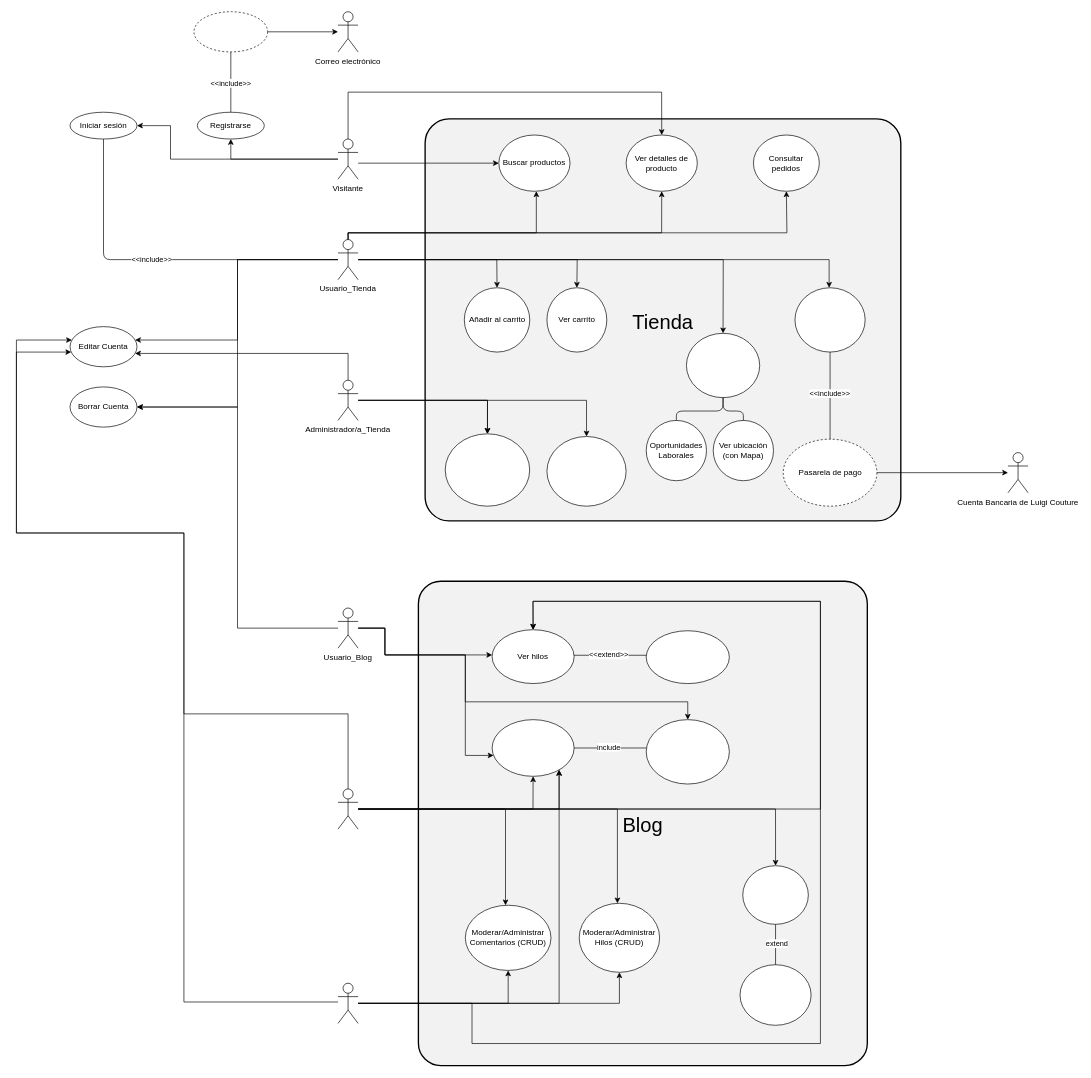
This 1091x1078 diagram has some shape labels left out. The centre of each missing label's shape, as x and y in pixels:
"Adjuntar multimedia" belongs at [775,994].
"Administrador/a_Blog" belongs at [347,808].
"Comentar hilo" belongs at [532,747].
"Crear/Editar hilo" belongs at [775,894].
"Filtrar comentarios" belongs at [687,657].
"Gestionar Pedidos (CRUD)" belongs at [586,471].
"Gestionar Productos (CRUD)" belongs at [487,469].
"Moderador" belongs at [347,1003].
"Realizar compra" belongs at [829,319].
"Servicio de envío de correos" belongs at [230,31].
"Suscribirse a hilos" belongs at [687,751].
"Ver información de Luigi Couture" belongs at [723,365].
